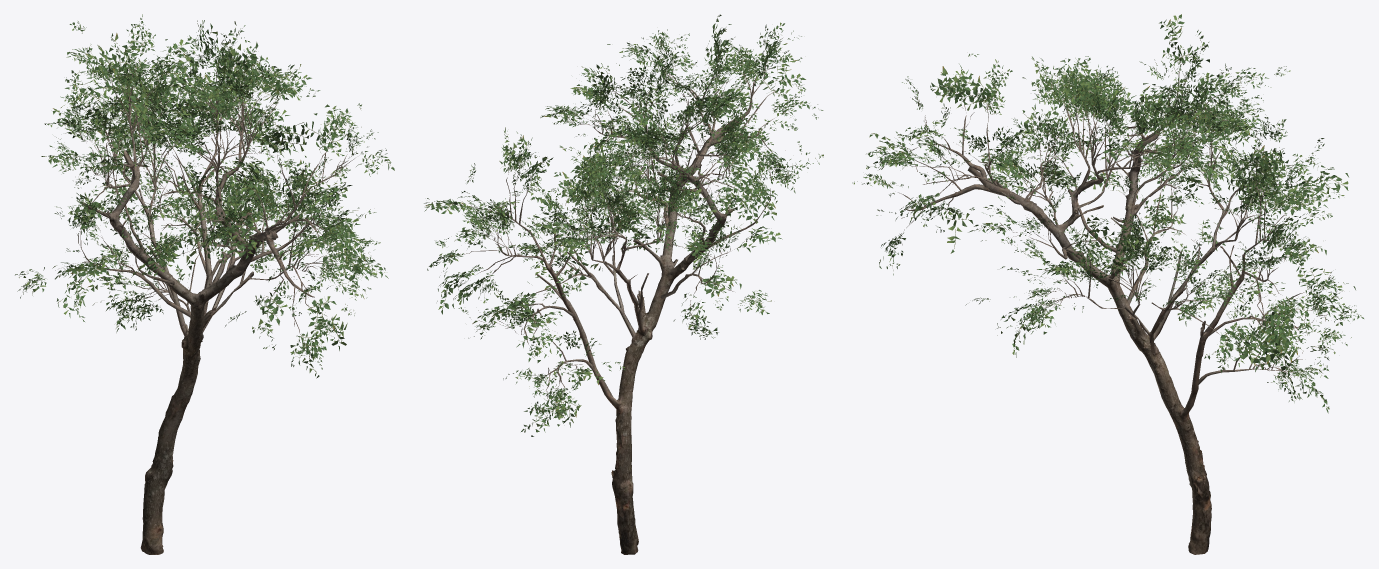
Rendered from tree-a.glb.
3 views of the same model, side by side, from view 1: azimuth 30°, elevation 25°; view 2: azimuth 150°, elevation 25°; view 3: azimuth 270°, elevation 25° (orthographic). The views are drawn at different scales.
Visible parts, largest first — view 1: tree_small_02_LOD0; view 2: tree_small_02_LOD0; view 3: tree_small_02_LOD0.
Part boxes in pixels (x1,y1,x2,y2): tree_small_02_LOD0: (15,14,394,554); tree_small_02_LOD0: (424,14,823,554); tree_small_02_LOD0: (852,14,1363,554).
Bounding box in the file's own units: 2.93 × 4.56 × 4.27.
Materials: 3 (3 with a texture image).
